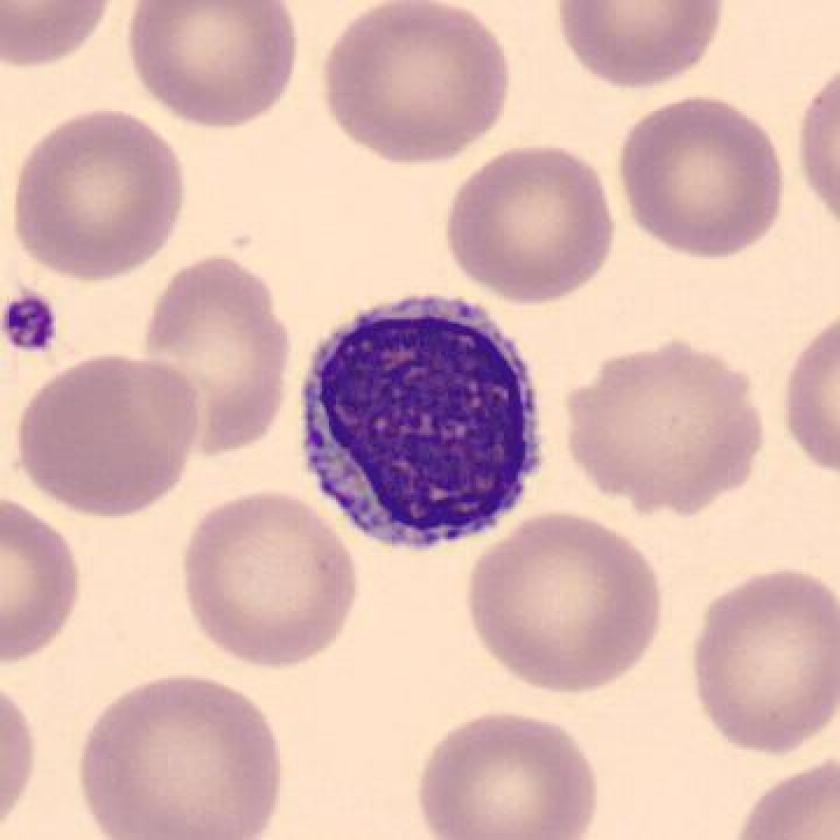lymphocyte: (288, 283, 563, 566)
